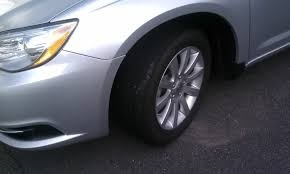Scratch: (21, 65, 73, 83)
